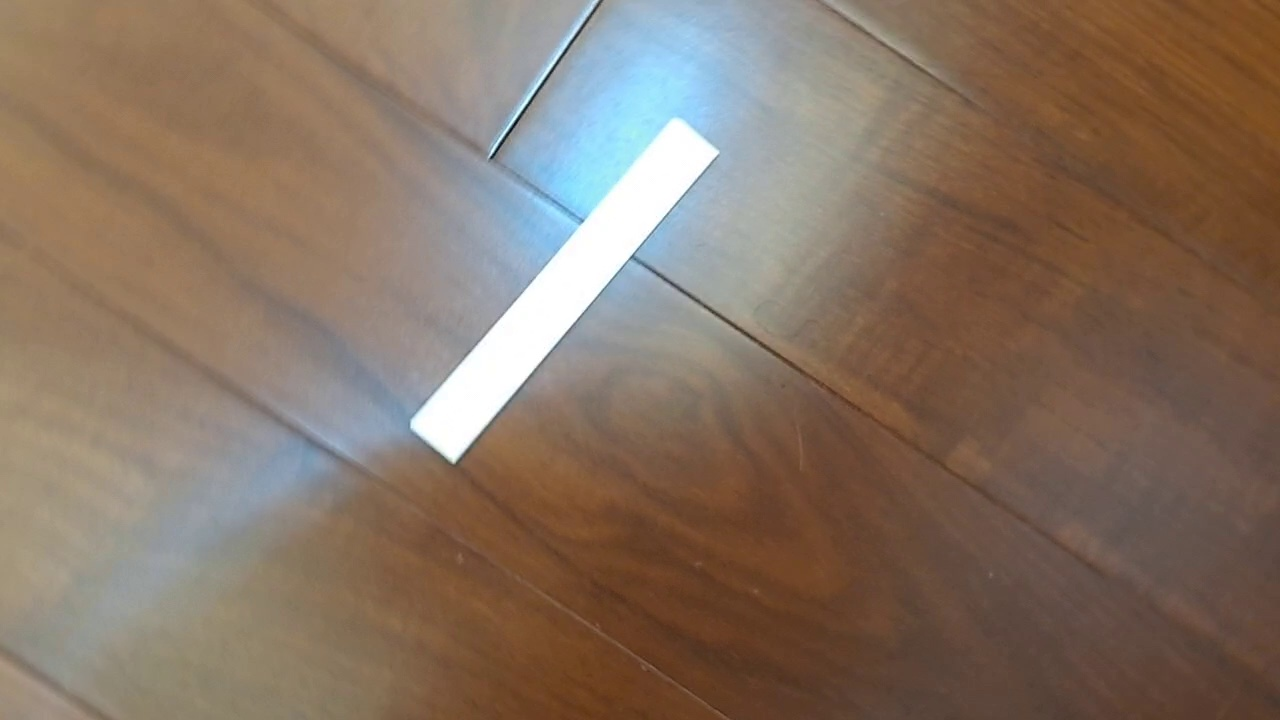ruler: (408, 115, 722, 467)
